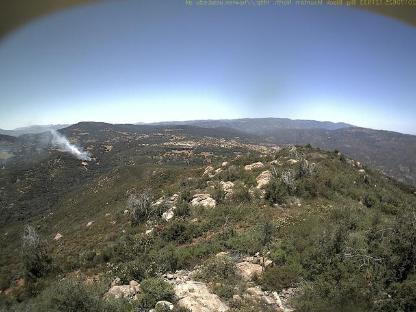smoke: (43, 128, 95, 161)
